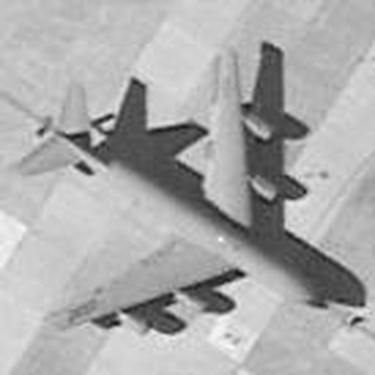airplane: (1, 27, 362, 345)
